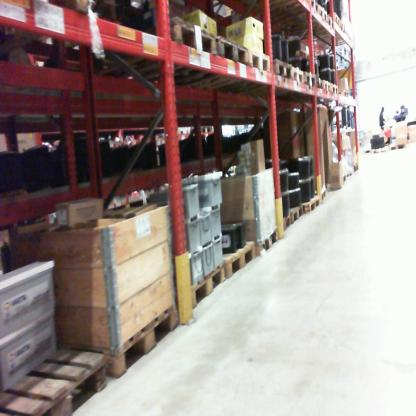pallet: (100, 15, 219, 93), (3, 344, 115, 414), (94, 307, 178, 391), (177, 29, 250, 94), (316, 29, 351, 100), (186, 263, 231, 314), (219, 243, 256, 283), (258, 1, 321, 20), (254, 225, 281, 259), (249, 46, 275, 80), (305, 188, 329, 214), (272, 58, 294, 81), (304, 69, 324, 92), (289, 63, 307, 87), (321, 5, 335, 33), (291, 203, 306, 228), (372, 142, 390, 158), (389, 139, 408, 153), (283, 210, 294, 232), (321, 79, 331, 99), (327, 81, 339, 96), (338, 19, 350, 34), (330, 12, 343, 25), (362, 144, 375, 156), (347, 166, 354, 181), (353, 162, 359, 176), (342, 172, 348, 183)
